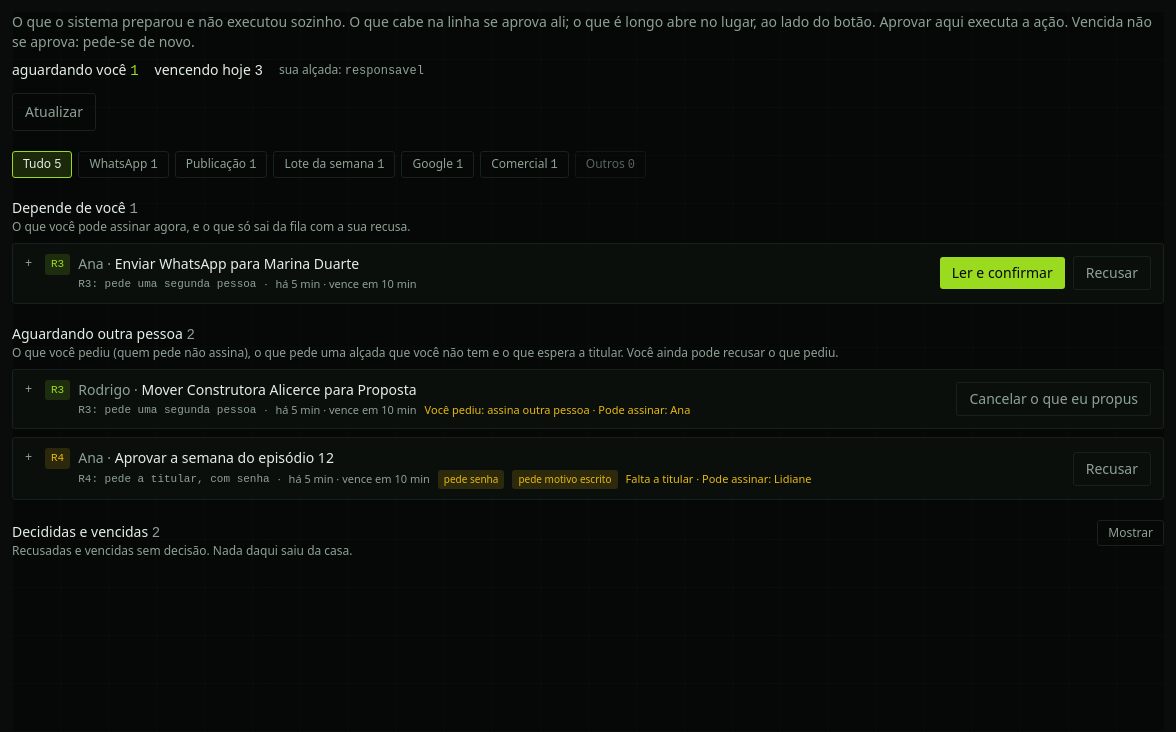
Test: P4: os três grupos › eu posso em "Depende de você"; eu propus e falta a titular em "Aguardando outra pessoa"; vencida e recusada no histórico recolhido
Check: the element with test id "aprov-item-ap-zap" is shown, box [12, 243, 1164, 304]
Check: the element with test id "aprov-item-ap-mover" is shown, box [12, 368, 1164, 429]
Click the button with test id "aprov-historico-alternar" at point(1131, 533), box [1097, 520, 1164, 546]
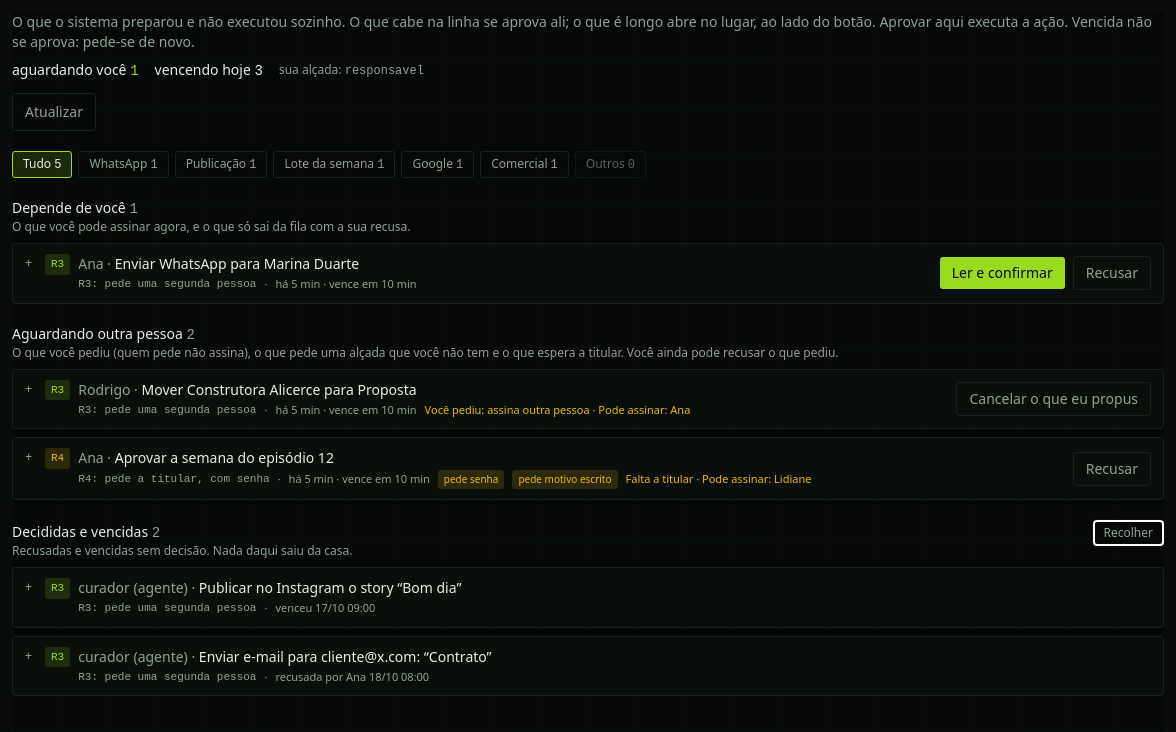
Check: the button with test id "aprov-historico-alternar" is expanded, box [1092, 520, 1164, 546]
Check: the element with test id "aprov-item-ap-velha" shows "venceu 17/10 09:00", box [25, 578, 1151, 616]
Check: the element with test id "aprov-item-ap-nao" shows "recusada por Ana 18/10 08:00", box [25, 646, 1151, 685]
